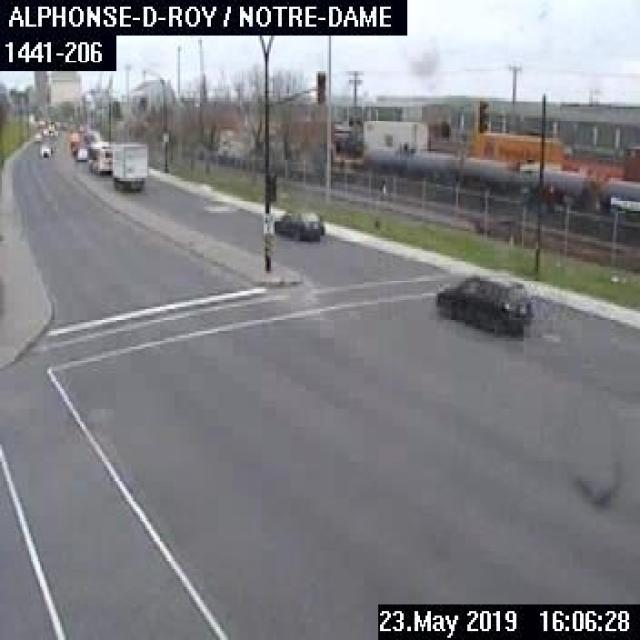vehicle: (433, 274, 531, 336), (106, 142, 146, 189), (273, 209, 322, 240), (84, 138, 111, 176), (74, 145, 86, 159)
